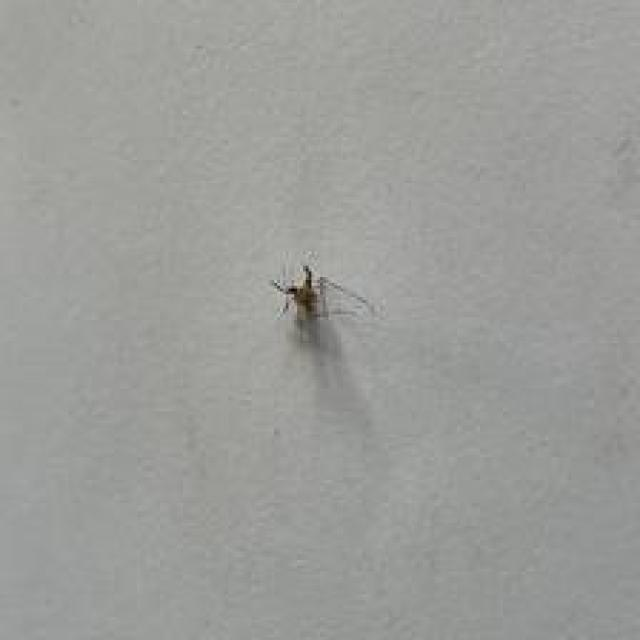Culex: (269, 262, 374, 342)
